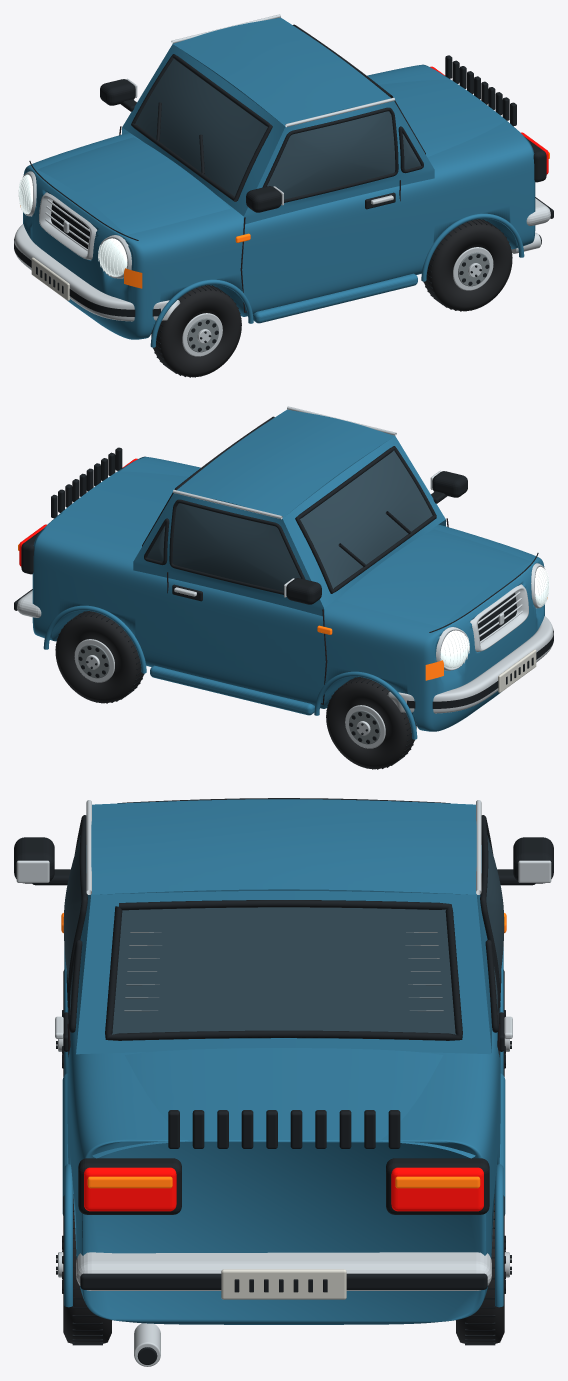
File: smz.glb
3 renders of one model, top to bottom at view 1: azimuth 30°, elevation 25°; view 2: azimuth 150°, elevation 25°; view 3: azimuth 270°, elevation 25°, orthographic. The views are drawn at different scales.
Parts seen in each view (by area): view 1: Body_Paint_smz, Body_Curved smoked glass.009, Body_Black trim.009, Wheel_RR_Tyre.009, Wheel_FR_Tyre.009, Body_Machined aluminium.009, StockBumpers_Machined aluminium.009, StockSkirts_Paint_smz, StockFenders_Paint_smz, Body_Prismatic headlight glass.009, StockBumpers_Black trim.009, Wheel_FR_Machined aluminium.009 (+6 smaller); view 2: Body_Paint_smz, Body_Curved smoked glass.009, Body_Black trim.009, Wheel_RL_Tyre.009, Wheel_FL_Tyre.009, Body_Machined aluminium.009, StockBumpers_Machined aluminium.009, StockSkirts_Paint_smz, StockFenders_Paint_smz, Body_Prismatic headlight glass.009, StockBumpers_Black trim.009, Wheel_FL_Machined aluminium.009 (+6 smaller); view 3: Body_Paint_smz, Body_Curved smoked glass.009, Body_Black trim.009, StockBumpers_Machined aluminium.009, Body_Red lens.009, StockBumpers_Black trim.009, Body_Machined aluminium.009, Body_Numberplate.009, StockFenders_Paint_smz, Body_Amber lens.009, Wheel_RL_Tyre.009, Wheel_RR_Tyre.009 (+3 smaller).
Part boxes in pixels (box(x1,y1,x2,y2)): Body_Paint_smz: box(23, 17, 535, 339); Body_Curved smoked glass.009: box(135, 58, 420, 199); Body_Black trim.009: box(29, 24, 546, 293); Wheel_RR_Tyre.009: box(424, 219, 512, 311); Wheel_FR_Tyre.009: box(151, 285, 241, 377); Body_Machined aluminium.009: box(22, 14, 541, 278); StockBumpers_Machined aluminium.009: box(14, 198, 550, 321); StockSkirts_Paint_smz: box(253, 273, 417, 323); StockFenders_Paint_smz: box(150, 213, 524, 347); Body_Prismatic headlight glass.009: box(18, 174, 127, 276); StockBumpers_Black trim.009: box(14, 197, 553, 316); Wheel_FR_Machined aluminium.009: box(182, 313, 222, 356); Body_Paint_smz: box(32, 409, 544, 731); Body_Curved smoked glass.009: box(147, 450, 432, 591); Body_Black trim.009: box(21, 416, 538, 684); Wheel_RL_Tyre.009: box(55, 611, 143, 703); Wheel_FL_Tyre.009: box(326, 677, 416, 769); Body_Machined aluminium.009: box(173, 406, 545, 670); StockBumpers_Machined aluminium.009: box(17, 590, 553, 713); StockSkirts_Paint_smz: box(150, 665, 314, 715); StockFenders_Paint_smz: box(43, 605, 417, 739); Body_Prismatic headlight glass.009: box(440, 566, 549, 668); StockBumpers_Black trim.009: box(14, 589, 553, 708); Wheel_FL_Machined aluminium.009: box(345, 705, 385, 748); Body_Paint_smz: box(67, 799, 500, 1324); Body_Curved smoked glass.009: box(63, 835, 504, 1034); Body_Black trim.009: box(14, 798, 553, 1364); StockBumpers_Machined aluminium.009: box(76, 1252, 491, 1290); Body_Red lens.009: box(84, 1167, 483, 1211); StockBumpers_Black trim.009: box(80, 1273, 487, 1289); Body_Machined aluminium.009: box(16, 800, 551, 1366); Body_Numberplate.009: box(221, 1269, 346, 1299); StockFenders_Paint_smz: box(64, 947, 503, 1307); Body_Amber lens.009: box(61, 913, 506, 1188); Wheel_RL_Tyre.009: box(456, 1194, 504, 1344); Wheel_RR_Tyre.009: box(63, 1194, 111, 1344).
Bounding box in the file's own units: 2.83 × 1.38 × 1.72.
